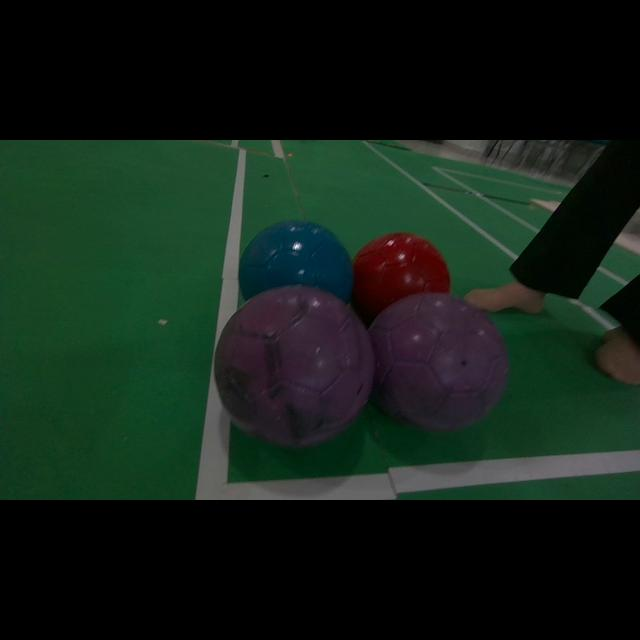B: (239, 221, 354, 302)
P: (214, 285, 374, 448), (369, 294, 509, 431)
R: (352, 232, 450, 326)
